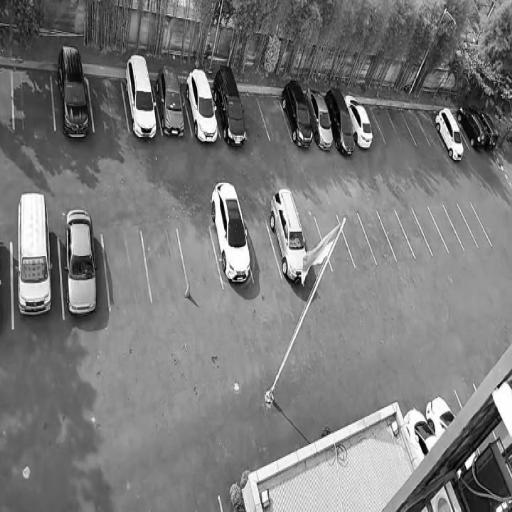Car: (12, 186, 55, 322), (205, 176, 255, 291), (263, 183, 314, 292), (62, 204, 101, 318), (54, 40, 94, 142), (121, 51, 160, 142), (274, 71, 317, 153), (209, 62, 249, 149), (181, 68, 223, 143), (153, 61, 189, 142), (322, 83, 359, 161), (303, 83, 338, 157), (402, 401, 441, 466), (432, 104, 470, 163), (343, 94, 377, 149), (420, 393, 458, 440), (454, 101, 489, 151)
Space Available: (101, 224, 153, 312), (141, 226, 189, 302), (178, 227, 223, 292), (11, 66, 54, 129), (87, 76, 130, 133), (243, 221, 281, 283), (315, 215, 355, 270), (337, 215, 376, 268), (377, 208, 416, 261), (358, 210, 396, 262), (395, 208, 432, 257), (299, 216, 331, 272), (412, 207, 448, 255), (256, 93, 292, 140), (443, 204, 478, 251), (428, 205, 463, 250), (458, 202, 492, 248), (238, 92, 270, 140), (370, 106, 401, 145), (400, 109, 430, 147), (385, 108, 415, 145), (414, 111, 443, 146), (0, 65, 14, 131), (363, 103, 385, 144), (441, 391, 462, 418), (456, 383, 477, 408)
